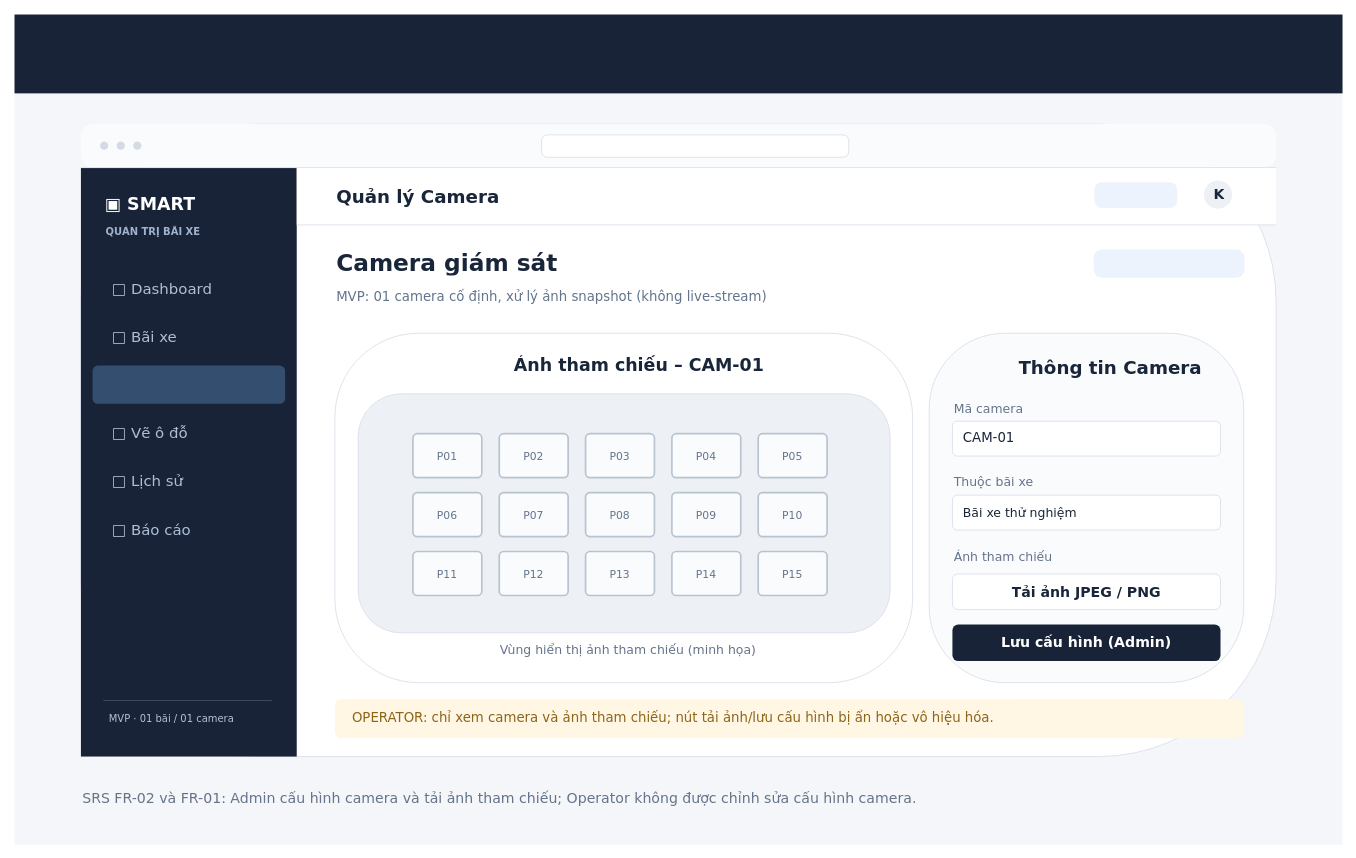
The diagram is 1356 pixels wide and 858 high, and some of its shapes have lost their labels. The shapes that lost their labels are listed below. From the top down, each one's centre as x and y in pixels, then its label:
point (695, 145): ai-smart-parking.local / cameras
point (1135, 195): ADMIN
point (1168, 263): 01 CAMERA
point (188, 384): □ Camera
